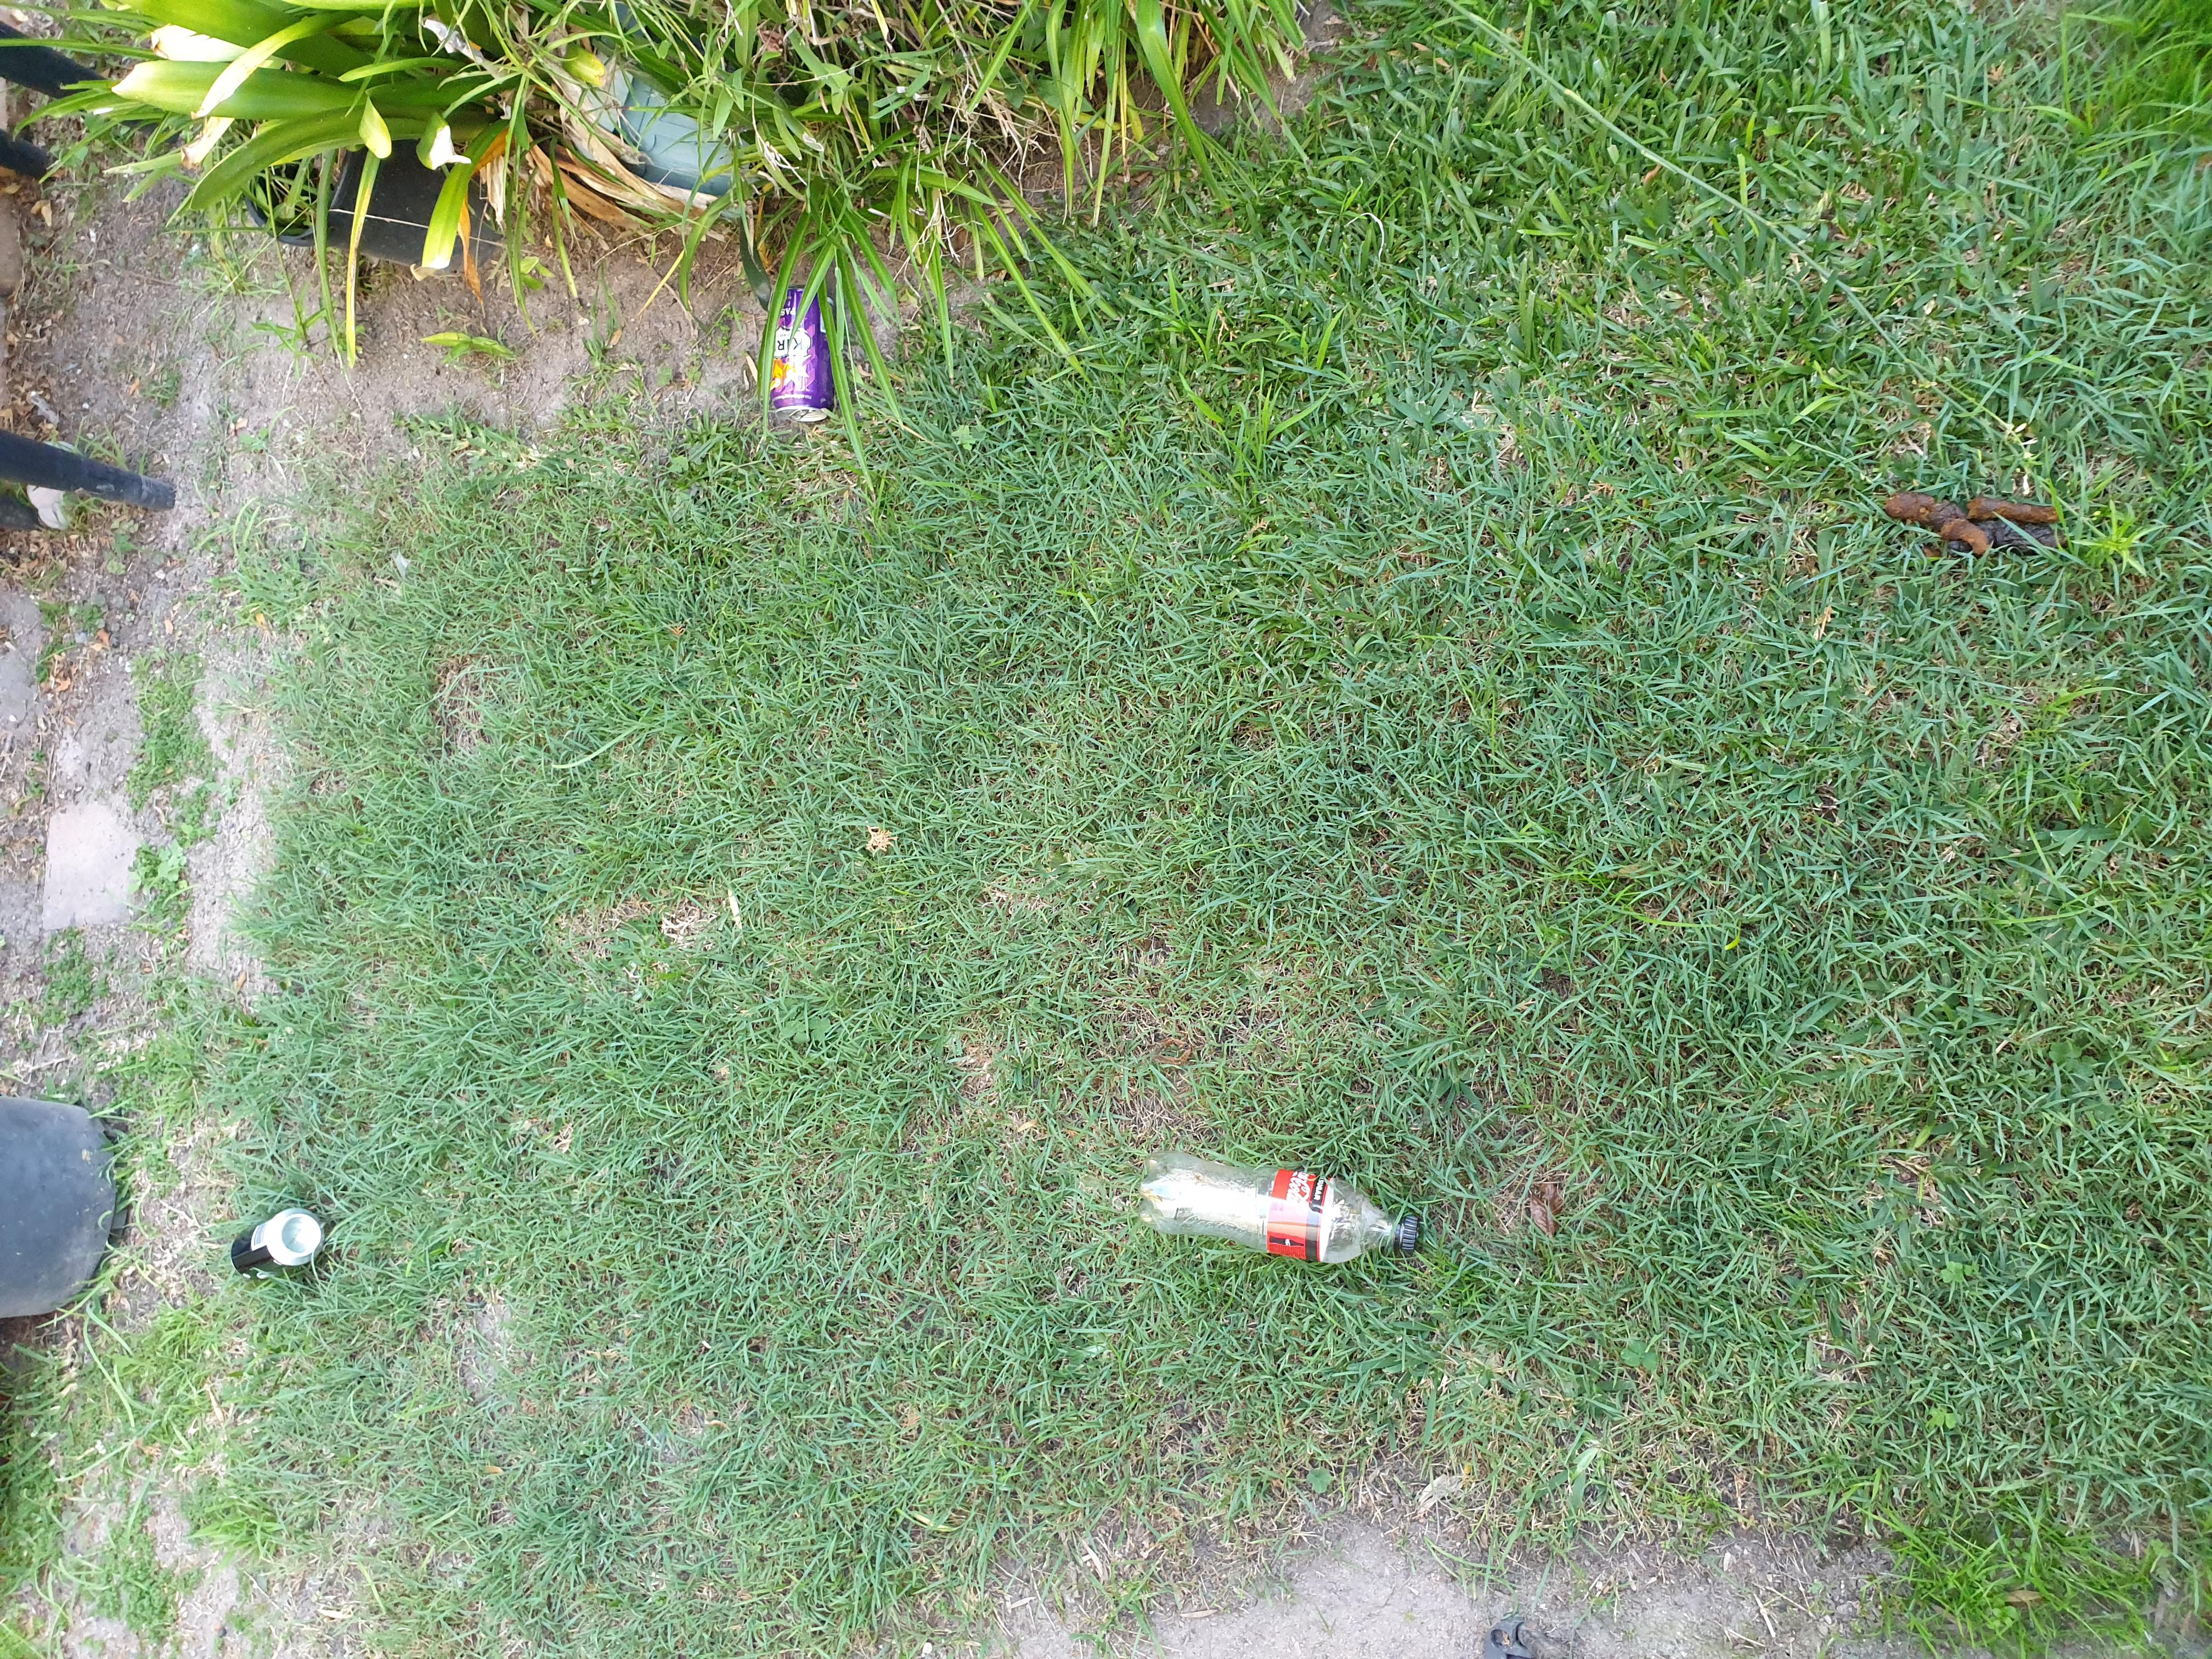Plastic Bottle: (1141, 1150, 1418, 1262), (770, 288, 833, 423), (232, 1208, 324, 1277)
